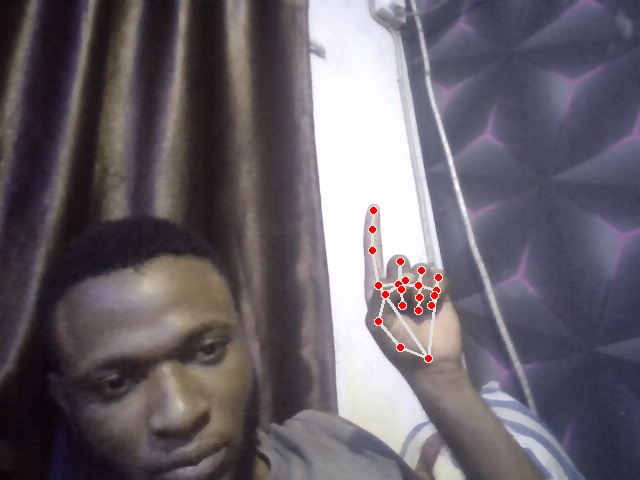number1: (363, 204, 464, 370)
